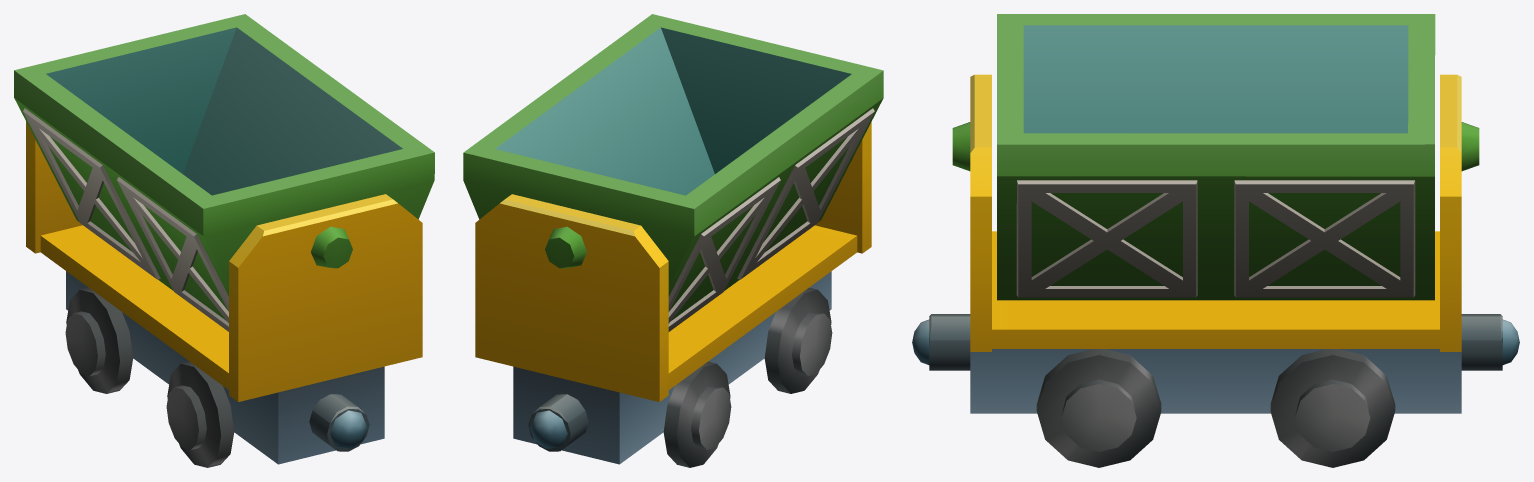
File: Carriage_Hopper.fbx
The picture shows the model from 3 angles, left to right: view 1: azimuth 30°, elevation 25°; view 2: azimuth 150°, elevation 25°; view 3: azimuth 270°, elevation 25°; orthographic projection. The views are drawn at different scales.
Parts seen in each view (by area): view 1: Carriage_Hopper; view 2: Carriage_Hopper; view 3: Carriage_Hopper.
Boxes of the visible parts, x1,y1,x2,y2 form: Carriage_Hopper: (14,14,434,467); Carriage_Hopper: (463,14,883,467); Carriage_Hopper: (912,14,1519,467).
Bounding box in the file's own units: 347 × 424 × 680.
